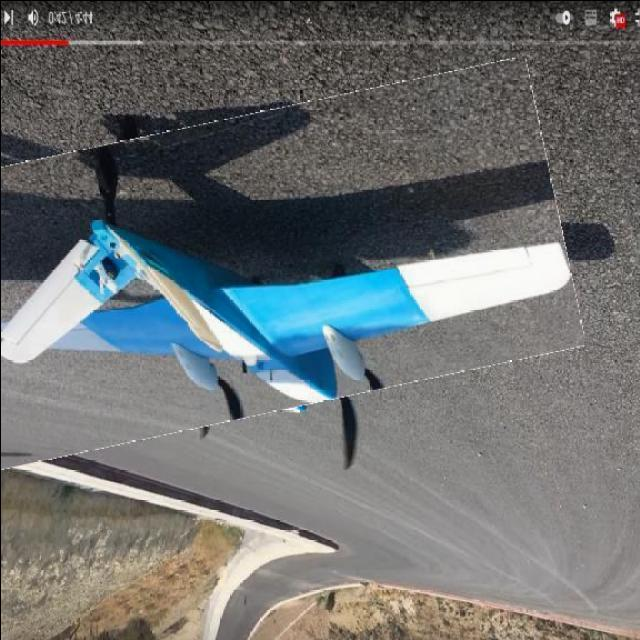plane: (0, 139, 575, 474)
